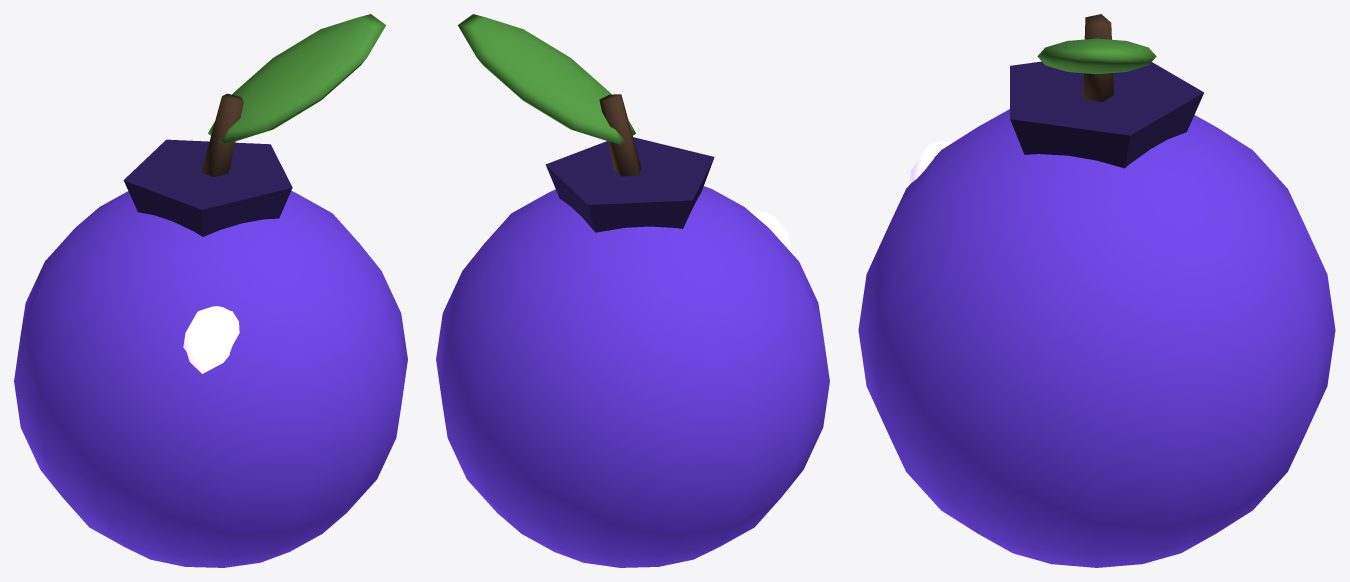
Rendered from berry.glb.
The picture shows the model from 3 angles, left to right: view 1: azimuth 30°, elevation 25°; view 2: azimuth 150°, elevation 25°; view 3: azimuth 270°, elevation 25°; orthographic projection. The views are drawn at different scales.
Visible parts, largest first — view 1: berry_mesh; view 2: berry_mesh; view 3: berry_mesh.
Part boxes in pixels (left/top/right/bottom): berry_mesh: left=14, top=14, right=407, bottom=567; berry_mesh: left=436, top=14, right=829, bottom=567; berry_mesh: left=858, top=14, right=1335, bottom=567.
Bounding box in the file's own units: 0.4 × 0.5451 × 0.4.
